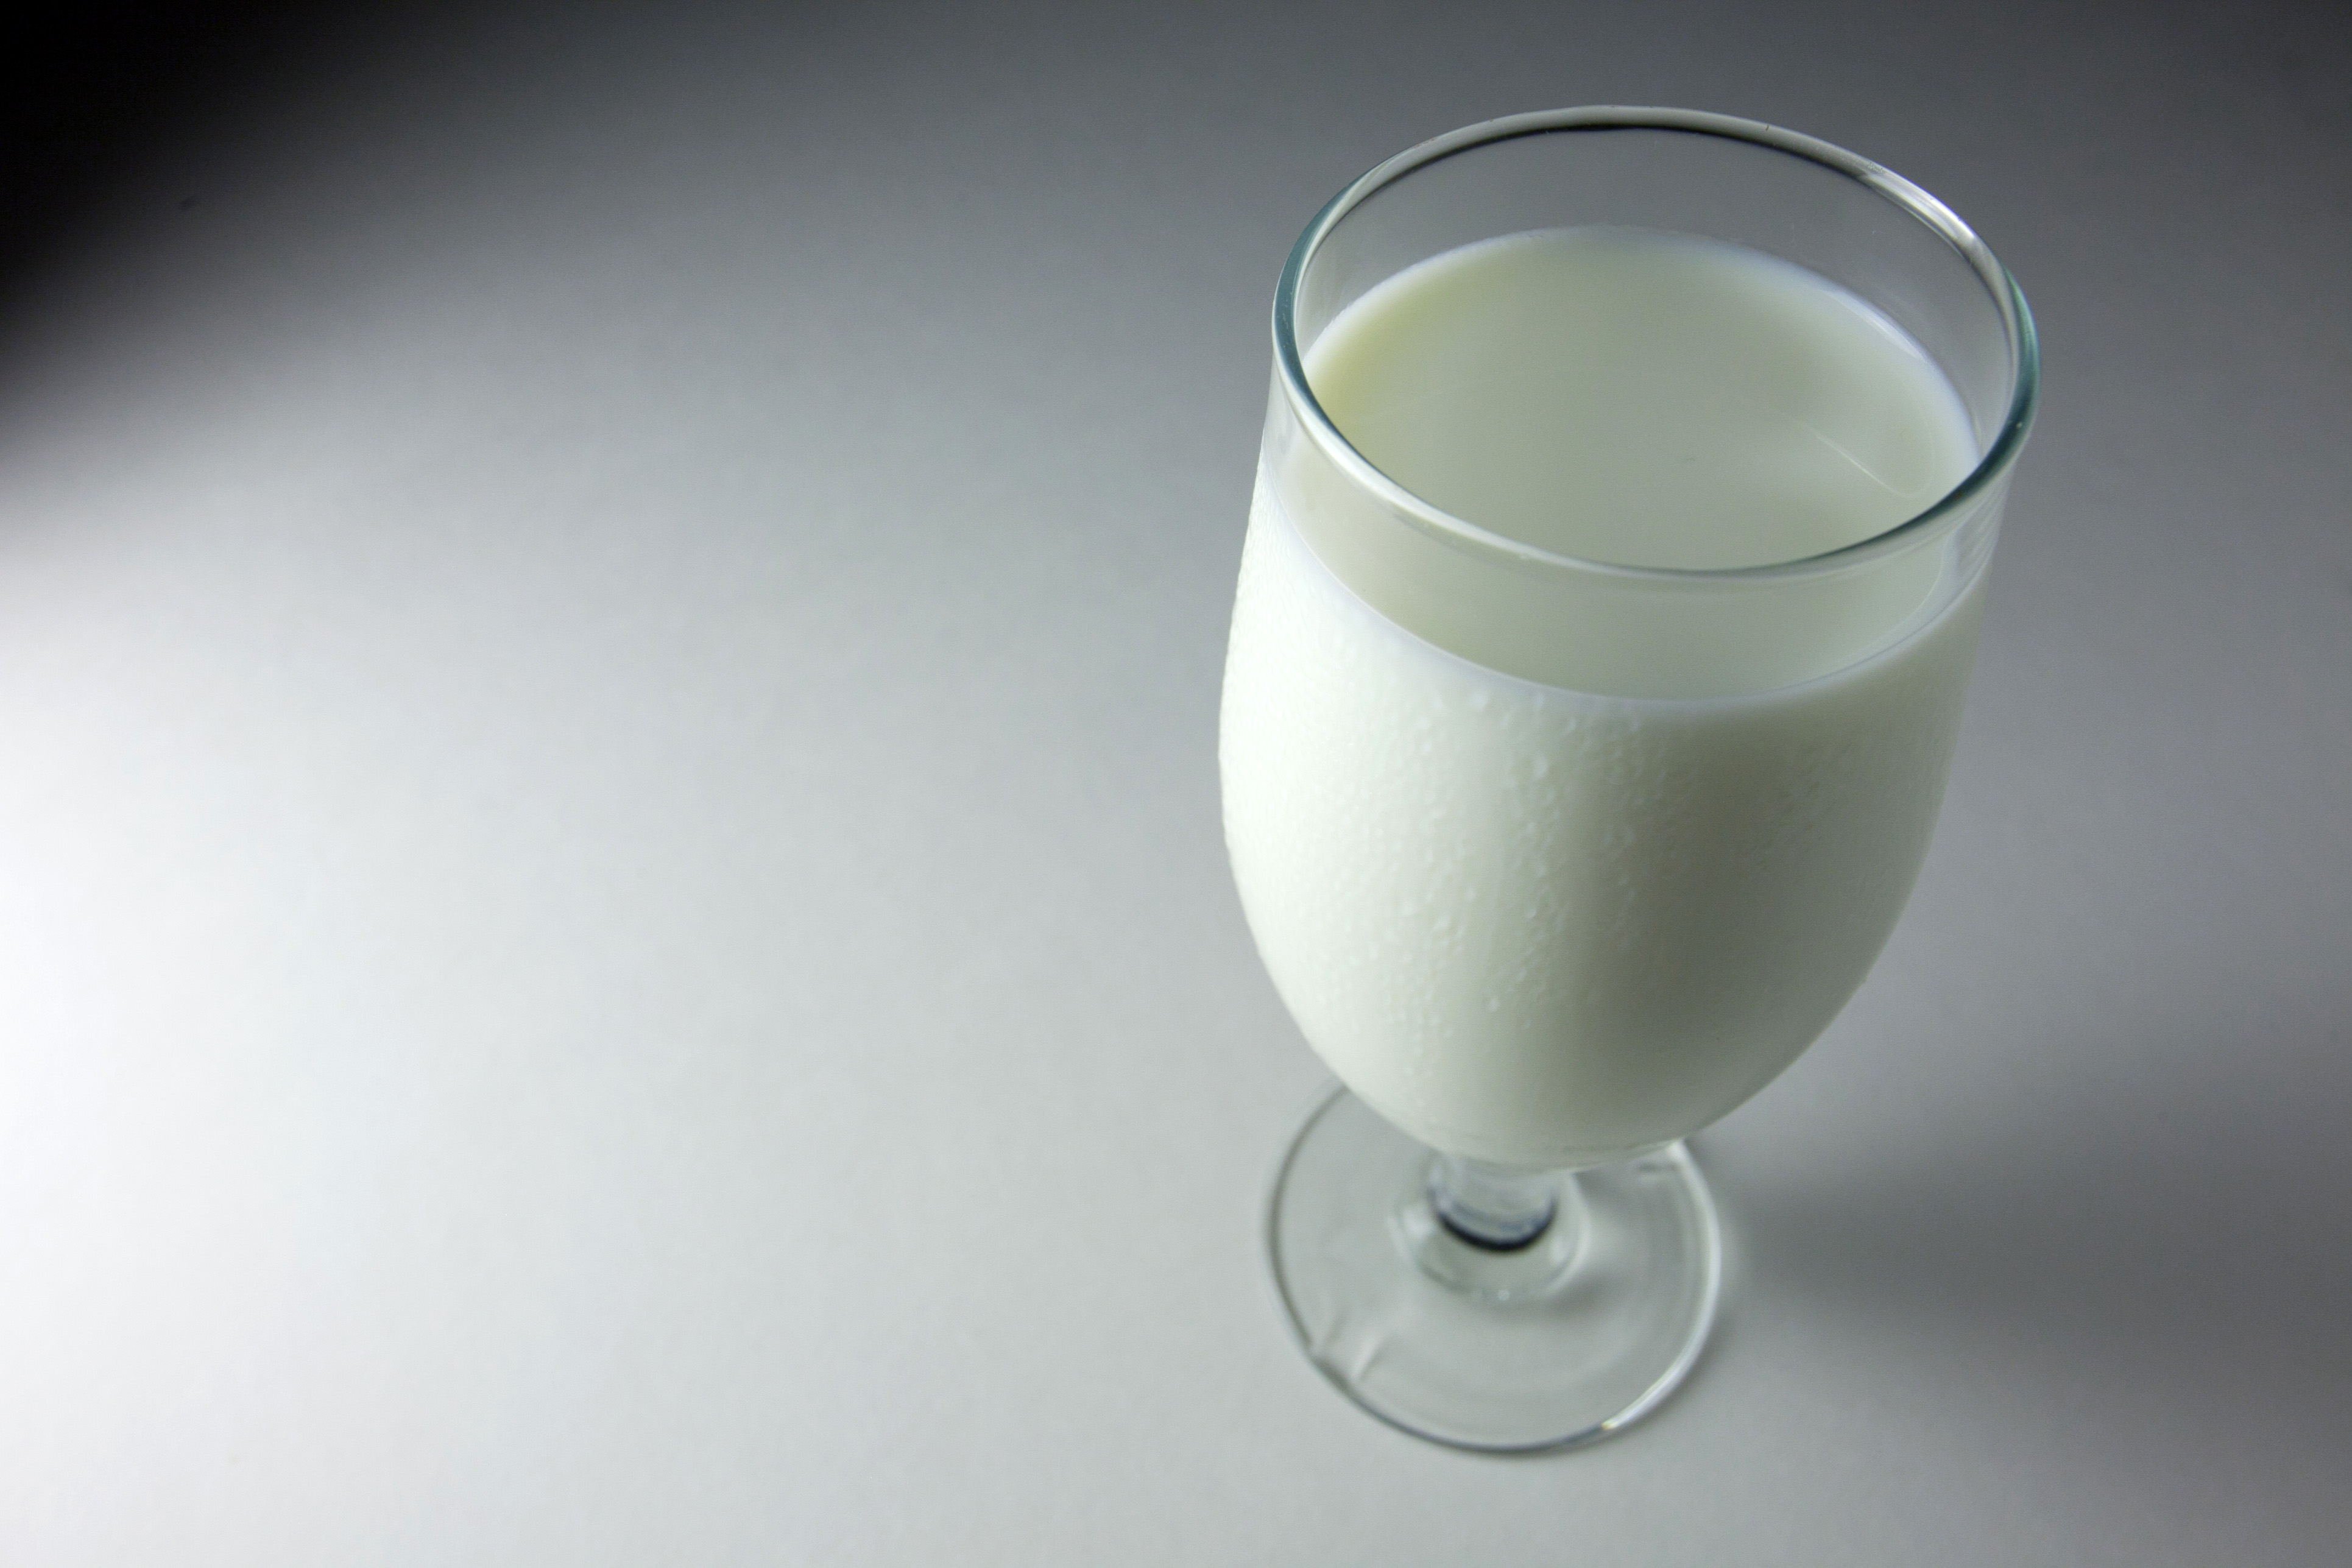glass of milk: (1249, 248, 1962, 1199)
